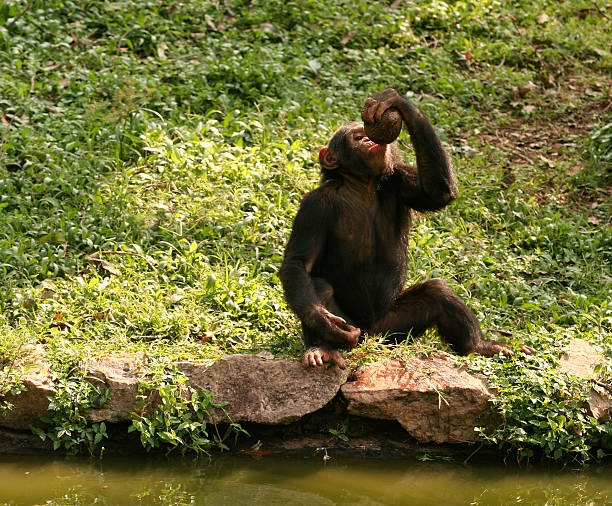chimpanzee: (323, 110, 404, 188)
